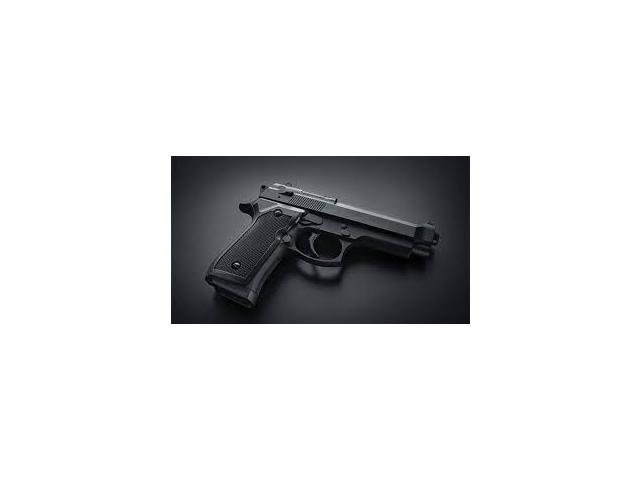pistol: (204, 179, 438, 305)
